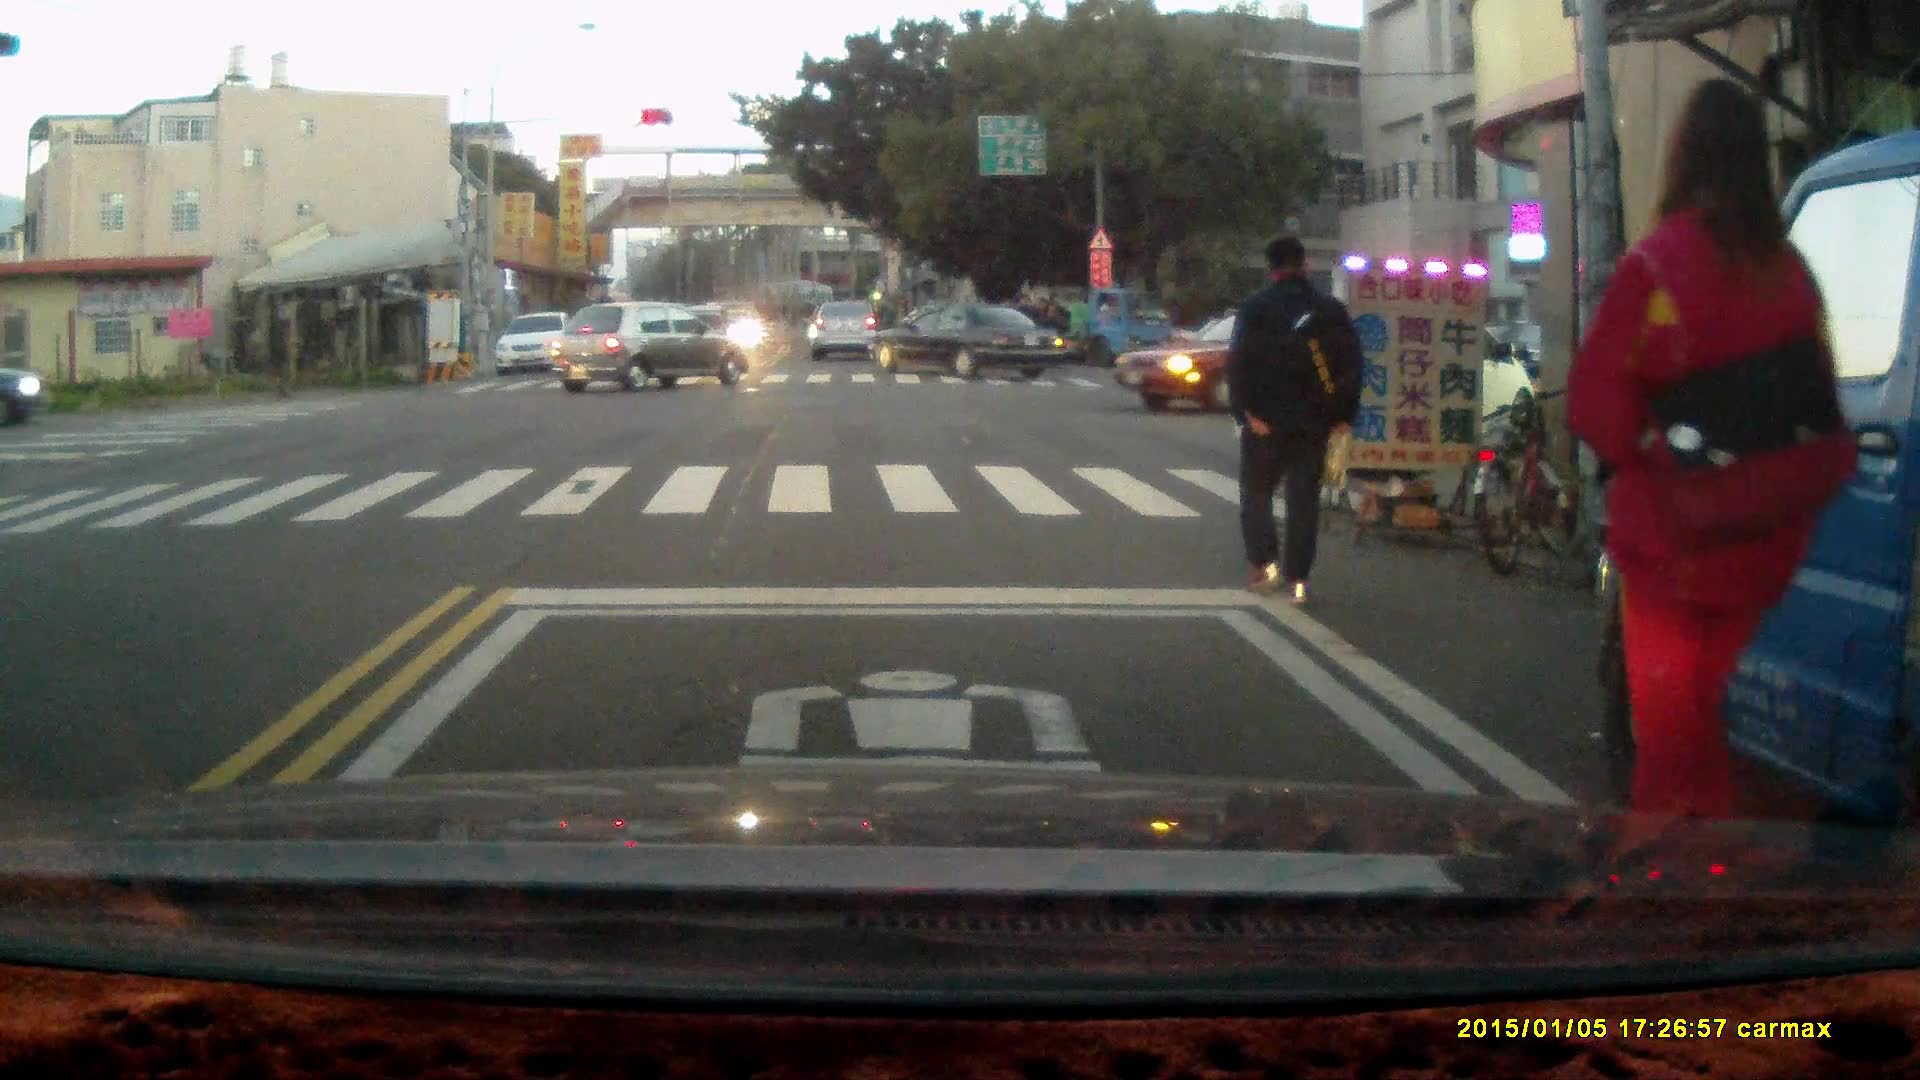pedestrian: (1562, 75, 1857, 836), (1213, 234, 1367, 604), (1043, 288, 1072, 366)
vehicle: (1598, 132, 1920, 854), (1233, 296, 1533, 459), (1108, 303, 1365, 414), (549, 303, 754, 396), (870, 303, 1066, 379), (1002, 284, 1177, 367), (498, 313, 586, 377), (809, 302, 886, 370), (1, 364, 46, 428)
